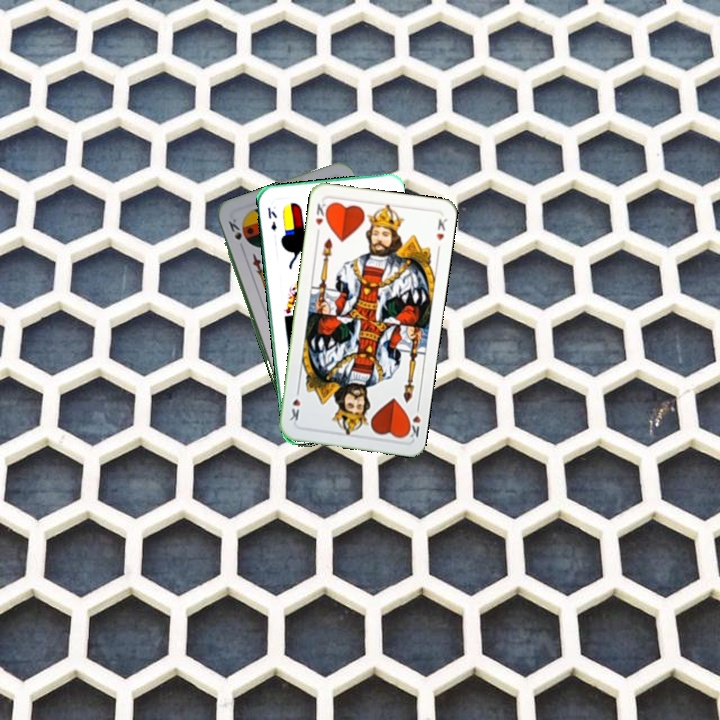EK: (263, 204, 280, 233)
HK: (402, 401, 423, 441), (311, 199, 332, 228)
SK: (224, 215, 244, 242)
